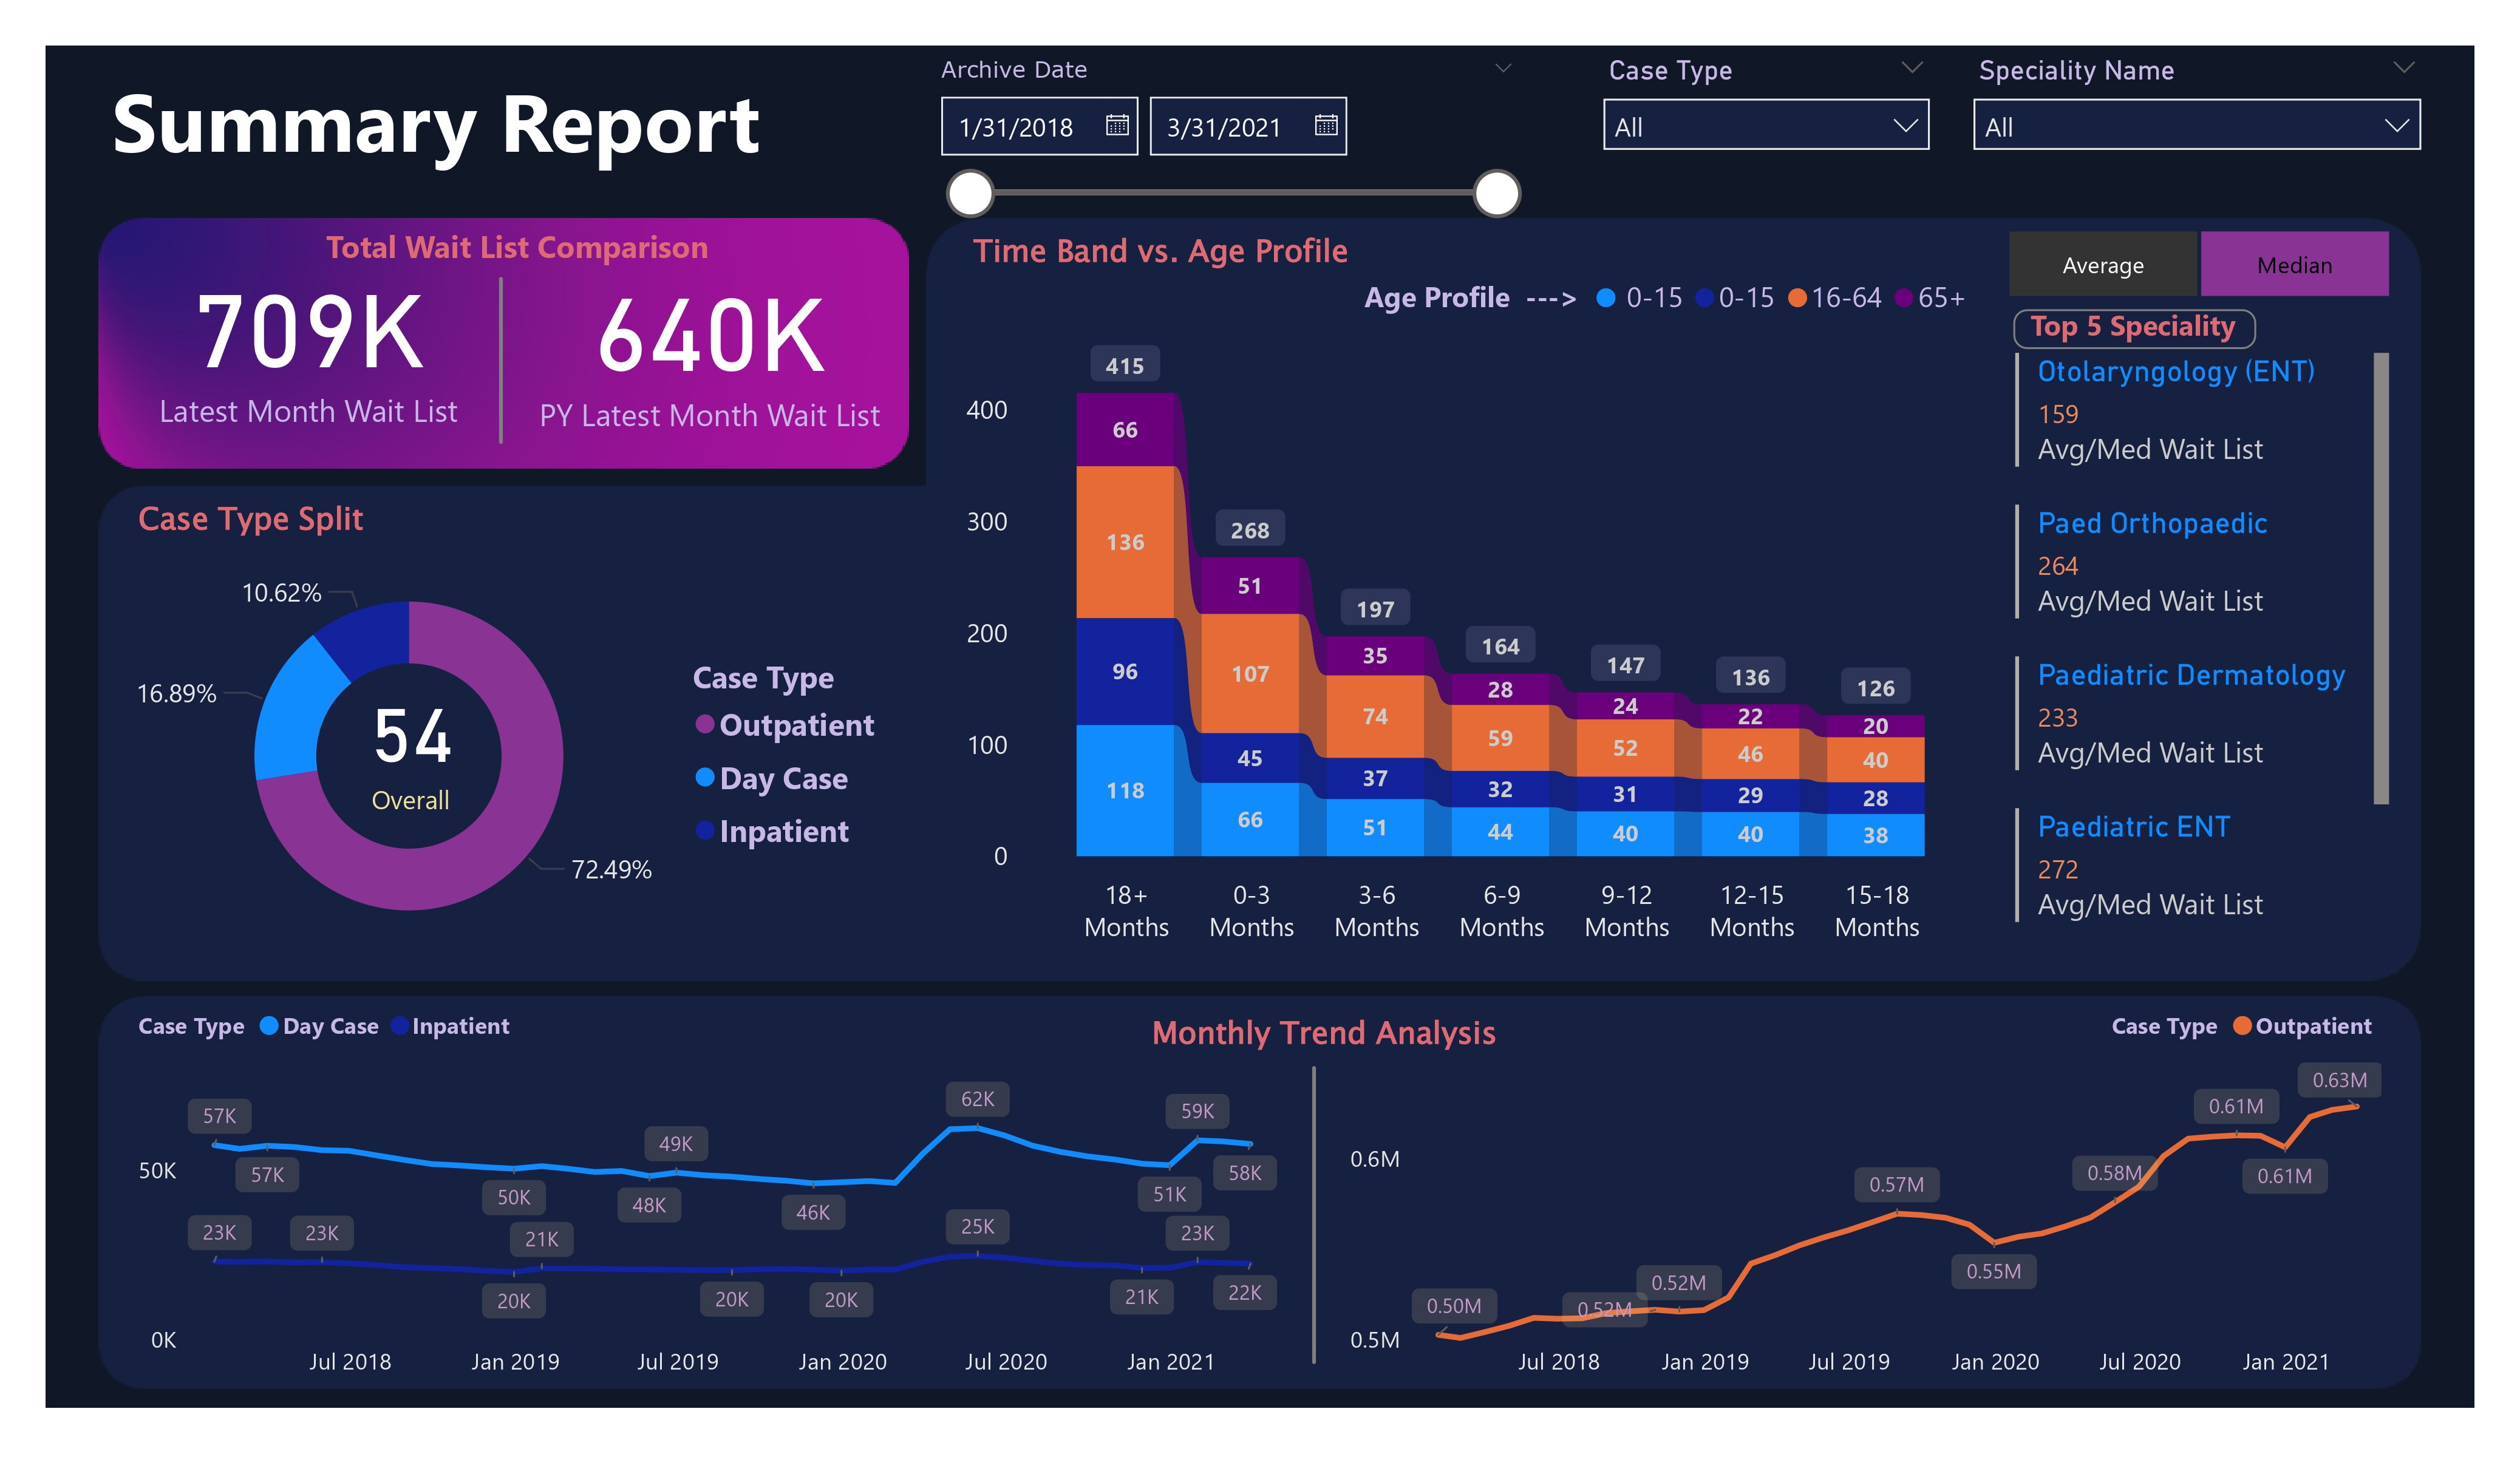

The page's visual inventory and layout, read from the dashboard file:
{"tool":"powerbi","page":{"name":"Summary","canvas":[1280,720],"ordinal":0},"visuals":[{"type":"card","fields":{"Values":["_Measures.NoDataRight"]},"box":[821.4,560,300,112.9],"z":0},{"type":"lineChart","fields":{"Category":["All_Data.Archive_Date"],"Y":["Sum(All_Data.Total)"],"Series":["All_Data.Case_Type"]},"box":[682.3,496.9,553.8,215.4],"z":1000},{"type":"card","fields":{"Values":["_Measures.NoDataLeft"]},"box":[190,560,300,112.9],"z":2000},{"type":"lineChart","fields":{"Category":["All_Data.Archive_Date"],"Y":["Sum(All_Data.Total)"],"Series":["All_Data.Case_Type"]},"box":[44,497,620,215],"z":3000},{"type":"textbox","box":[1041.4,132.3,130.5,31.4],"z":4000},{"type":"shape","box":[1036.8,138.6,128.2,20.9],"z":5000},{"type":"card","fields":{"Values":["_Measures.Latest Month Wait List"]},"box":[30,89.2,216.7,130],"z":6000},{"type":"slicer","fields":{"Values":["Calculation Method.Calc Method"]},"box":[1009.2,90.8,250,48.3],"z":7000},{"type":"donutChart","fields":{"Category":["All_Data.Case_Type"],"Y":["_Measures.Avg/Med Wait List"]},"box":[37,256,414,237],"z":8000},{"type":"columnChart","fields":{"Y":["_Measures.Avg/Med Wait List"],"Category":["All_Data.Time_Bands"],"Series":["All_Data.Age_Profile"]},"box":[480,117.1,542.9,362.9],"z":9000},{"type":"multiRowCard","fields":{"Values":["All_Data.Speciality_Name","_Measures.Avg/Med Wait List"]},"box":[1032.7,157.3,207.3,319.1],"z":10000},{"type":"slicer","fields":{"Values":["All_Data.Archive_Date"]},"box":[459,0,327,96],"z":11000},{"type":"slicer","fields":{"Values":["All_Data.Case_Type"]},"box":[810.9,0,191.8,64.5],"z":12000},{"type":"slicer","fields":{"Values":["All_Data.Speciality_Name"]},"box":[1006.4,0,255.5,63.6],"z":13000},{"type":"textbox","box":[30,5,376.2,72.5],"z":14000},{"type":"card","fields":{"Values":["_Measures.PY Latest Month Wait List"]},"box":[245.8,90,208.3,131.7],"z":15000},{"type":"card","fields":{"Values":["_Measures.Avg/Med Wait List"]},"box":[105.7,315.7,172.9,104.3],"z":16000},{"type":"shape","box":[215.7,122.1,48.6,87.9],"z":17000},{"type":"textbox","box":[578.3,502.5,200.8,35],"z":18000},{"type":"textbox","box":[44,232,234,38],"z":19000},{"type":"textbox","box":[483.8,91.2,258.8,40],"z":20000},{"type":"textbox","box":[143.3,90,225.8,31.7],"z":21000},{"type":"shape","box":[645.4,538.5,46.9,156.9],"z":22000}]}

Visuals, with their boxes in screenshot pixels (x1, y1, x2, y2):
card - _Measures.NoDataRight: (left=1604, top=1108, right=2173, bottom=1322)
lineChart - All_Data.Archive_Date x Sum(All_Data.Total): (left=1340, top=988, right=2391, bottom=1397)
card - _Measures.NoDataLeft: (left=406, top=1108, right=975, bottom=1322)
lineChart - All_Data.Archive_Date x Sum(All_Data.Total): (left=129, top=988, right=1306, bottom=1396)
textbox: (left=2021, top=296, right=2269, bottom=356)
shape: (left=2013, top=308, right=2256, bottom=348)
card - _Measures.Latest Month Wait List: (left=103, top=215, right=514, bottom=461)
slicer - Calculation Method.Calc Method: (left=1961, top=218, right=2435, bottom=310)
donutChart - All_Data.Case_Type x _Measures.Avg/Med Wait List: (left=116, top=531, right=901, bottom=981)
columnChart - _Measures.Avg/Med Wait List x All_Data.Time_Bands: (left=956, top=268, right=1987, bottom=956)
multiRowCard - All_Data.Speciality_Name x _Measures.Avg/Med Wait List: (left=2005, top=344, right=2399, bottom=949)
slicer - All_Data.Archive_Date: (left=916, top=46, right=1537, bottom=228)
slicer - All_Data.Case_Type: (left=1584, top=46, right=1948, bottom=168)
slicer - All_Data.Speciality_Name: (left=1955, top=46, right=2440, bottom=166)
textbox: (left=103, top=55, right=816, bottom=192)
card - _Measures.PY Latest Month Wait List: (left=512, top=216, right=907, bottom=466)
card - _Measures.Avg/Med Wait List: (left=246, top=645, right=574, bottom=843)
shape: (left=455, top=277, right=547, bottom=444)
textbox: (left=1143, top=999, right=1524, bottom=1065)
textbox: (left=129, top=486, right=573, bottom=558)
textbox: (left=964, top=219, right=1455, bottom=294)
textbox: (left=318, top=216, right=746, bottom=276)
shape: (left=1270, top=1067, right=1359, bottom=1365)
